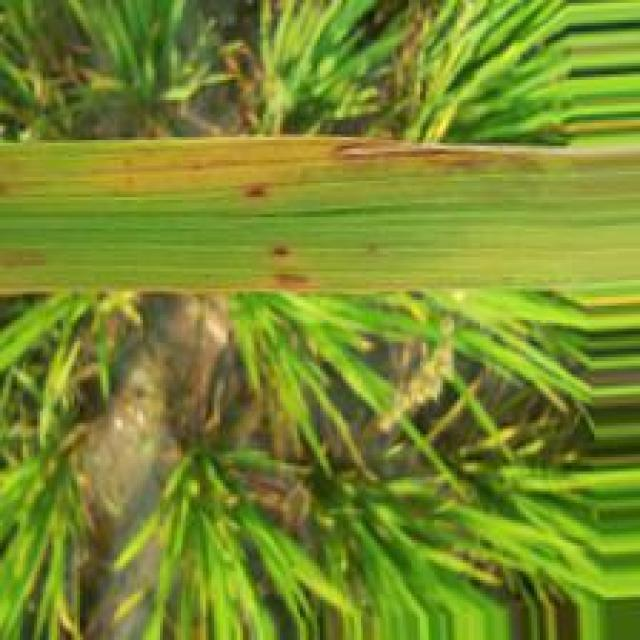Brown_Spot: (326, 139, 534, 170), (239, 182, 278, 202), (272, 273, 320, 288), (275, 245, 291, 257)
